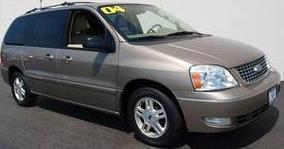front_view: (179, 49, 280, 131)
headlight: (181, 57, 243, 92)
side_glass: (10, 10, 124, 54)
